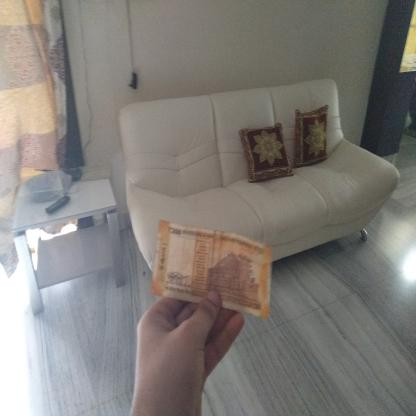New200Back: (150, 238, 274, 314)
